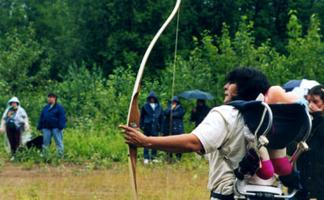person: (118, 68, 312, 200)
